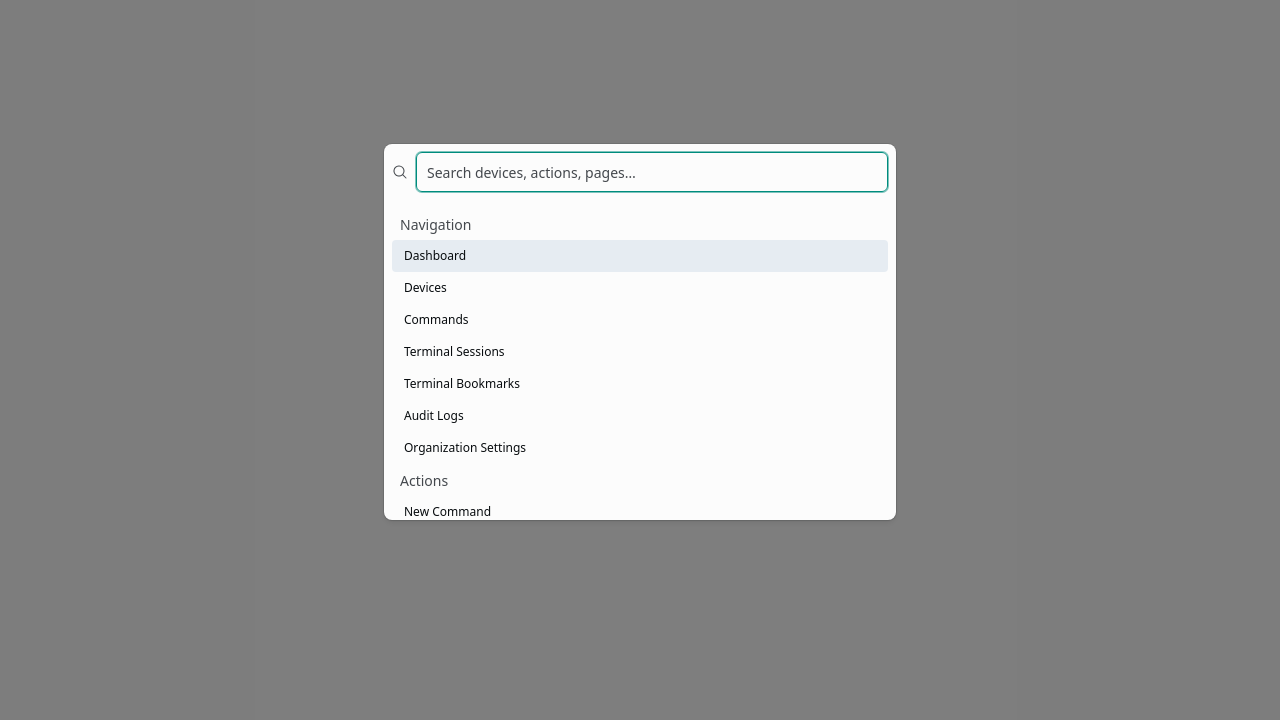
CommandPalette › filters results when typing
Type "Dash" into the field labelled "Search" at [652, 172], box [416,152,888,192]
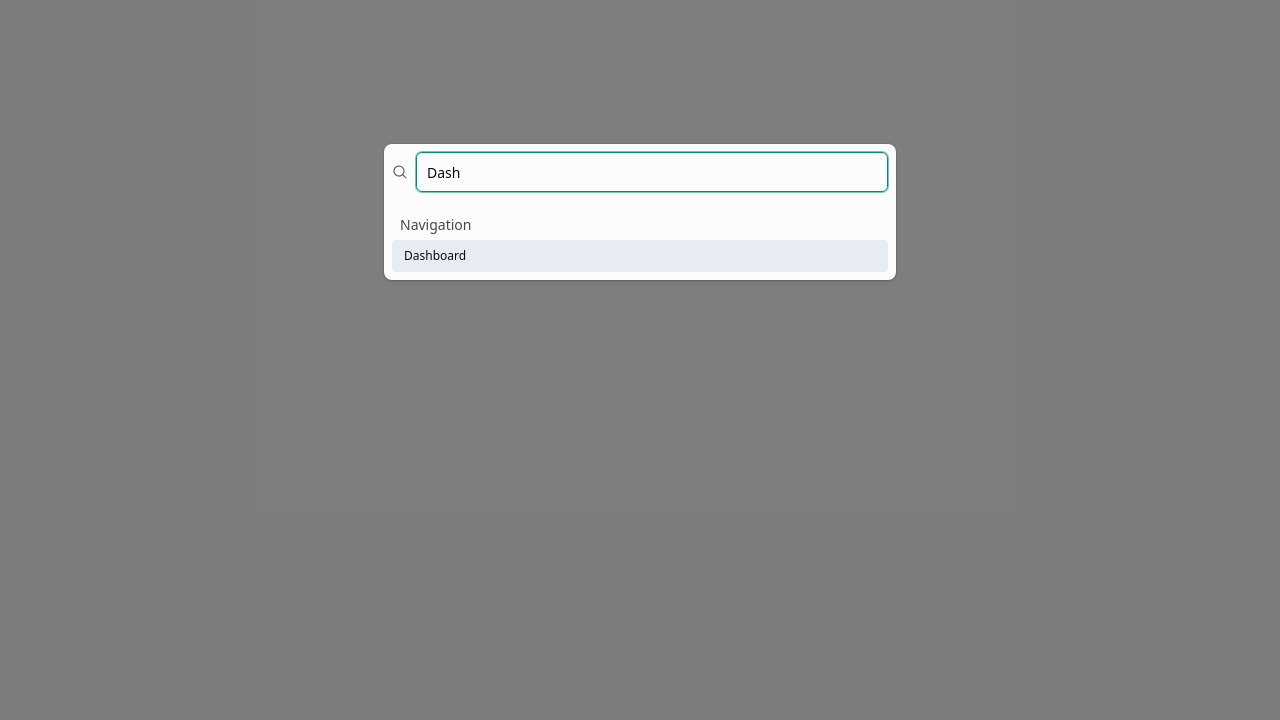
Expected: the text "Dashboard" is shown, [404,248,466,264]
Result: the option "Commands" is gone
